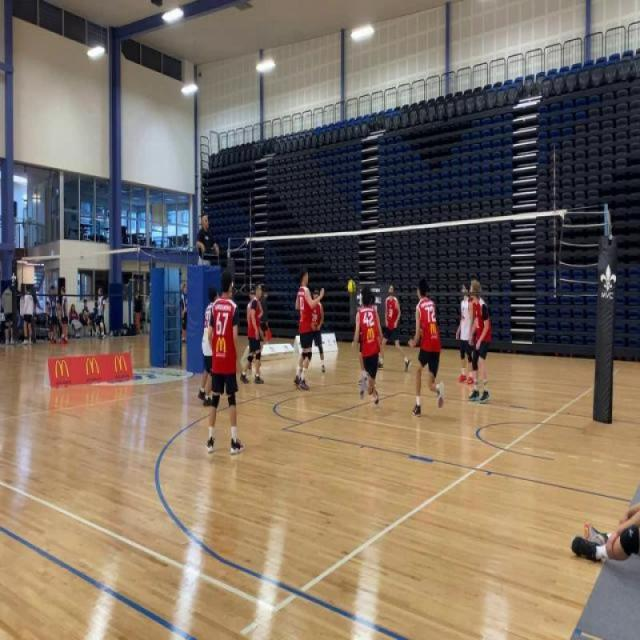volleyball: (346, 275, 358, 296)
